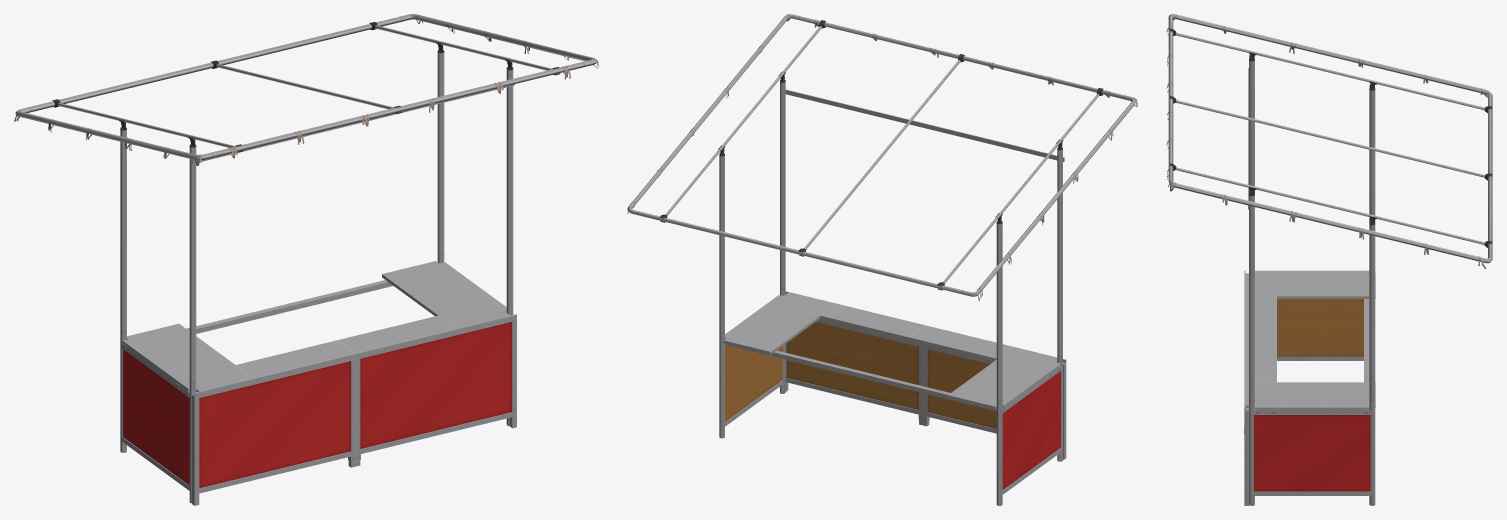
Rendered from jsf_4P_s02_c06_t03.fbx.
3 renders of one model, left to right at view 1: azimuth 30°, elevation 25°; view 2: azimuth 150°, elevation 25°; view 3: azimuth 270°, elevation 25°, orthographic. The views are drawn at different scales.
Visible parts, largest first — view 1: Base_s02_c06, Pillar4_s02, Table_4P_s02_t03, Rope_4P_s02; view 2: Base_s02_c06, Pillar4_s02, Table_4P_s02_t03, Rope_4P_s02; view 3: Base_s02_c06, Pillar4_s02, Table_4P_s02_t03, Rope_4P_s02.
Part boxes in pixels (left/top/right/bottom): Base_s02_c06: left=121, top=314, right=516, bottom=505; Pillar4_s02: left=15, top=14, right=596, bottom=503; Table_4P_s02_t03: left=122, top=261, right=509, bottom=396; Rope_4P_s02: left=14, top=15, right=598, bottom=165; Base_s02_c06: left=725, top=291, right=1066, bottom=494; Pillar4_s02: left=627, top=14, right=1136, bottom=505; Table_4P_s02_t03: left=723, top=292, right=1061, bottom=412; Rope_4P_s02: left=627, top=14, right=1137, bottom=300; Base_s02_c06: left=1244, top=270, right=1371, bottom=505; Pillar4_s02: left=1168, top=14, right=1492, bottom=505; Table_4P_s02_t03: left=1245, top=270, right=1375, bottom=414; Rope_4P_s02: left=1166, top=14, right=1487, bottom=268.
Size of the model in its own units: 264 by 243 by 211.
